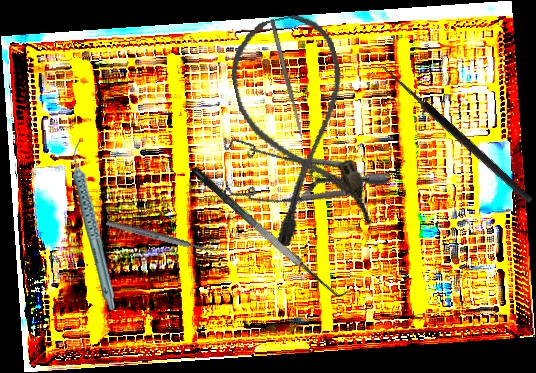Cannula: (221, 7, 376, 250)
Handpiece: (73, 142, 116, 311)
Hook Surgical: (369, 60, 535, 212)
Spatula Surgical: (190, 153, 352, 307), (268, 18, 305, 138)
Speculum: (200, 83, 391, 248)
Surgical Spoon: (105, 218, 225, 259)
